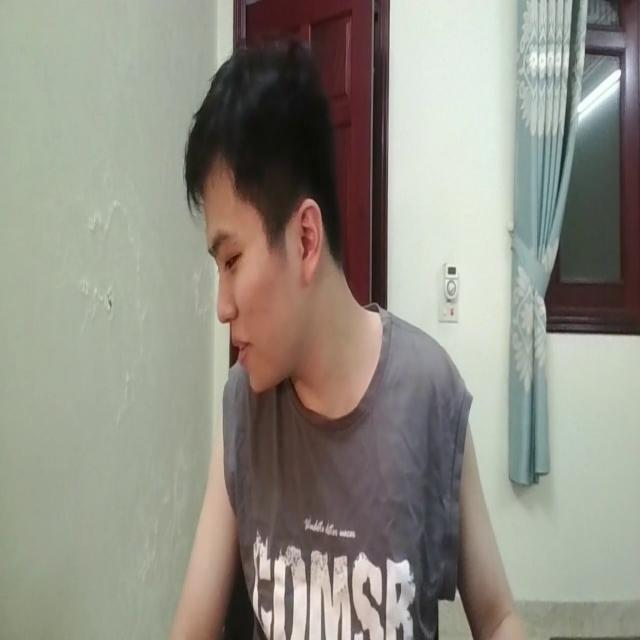student: (145, 42, 519, 640)
